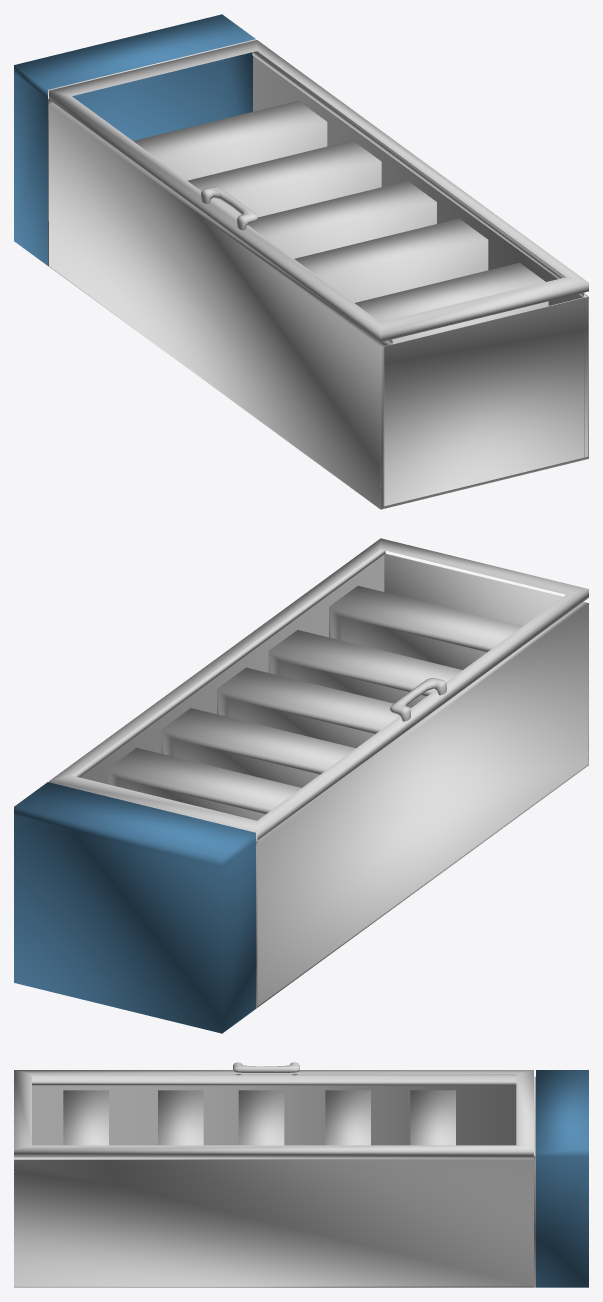
3 views of the same model, one above another, from view 1: azimuth 30°, elevation 25°; view 2: azimuth 150°, elevation 25°; view 3: azimuth 270°, elevation 25° (orthographic). The views are drawn at different scales.
Visible parts, largest first — view 1: Cube; view 2: Cube; view 3: Cube.
Boxes of the visible parts, bbox=[...] form: Cube: bbox=[14, 14, 588, 509]; Cube: bbox=[14, 538, 588, 1033]; Cube: bbox=[14, 1062, 588, 1287].
Bounding box in the file's own units: 49.5 × 42.66 × 151.
